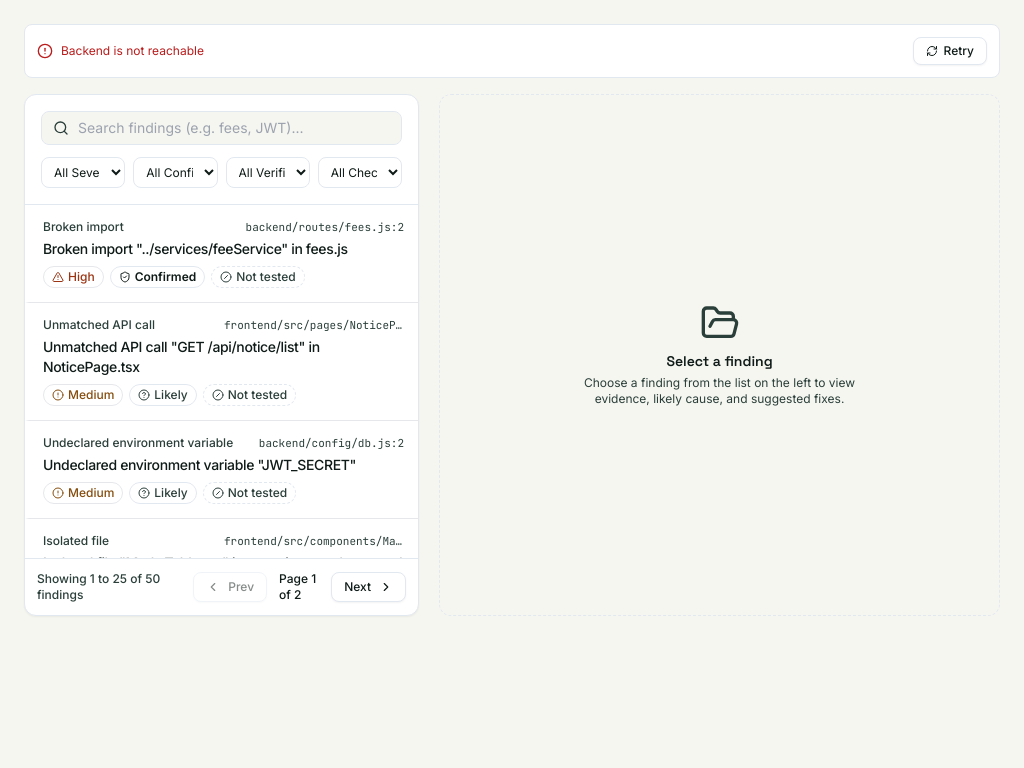
Scenario: Investigations Screen (Step 12a-1 Part 2) › T05: pagination text and next/previous page navigation
The width and height of the screenshot is (1024, 768).
expect the text with test id "pagination-info" reads "Showing 1 to 25 of 50 findings": met, box [37,571,160,602]
What coordinates should you click on to do the following:
click the button with aria-label "Next page"
I would click on:
 (369, 587)
Its box is [331,572,406,602].
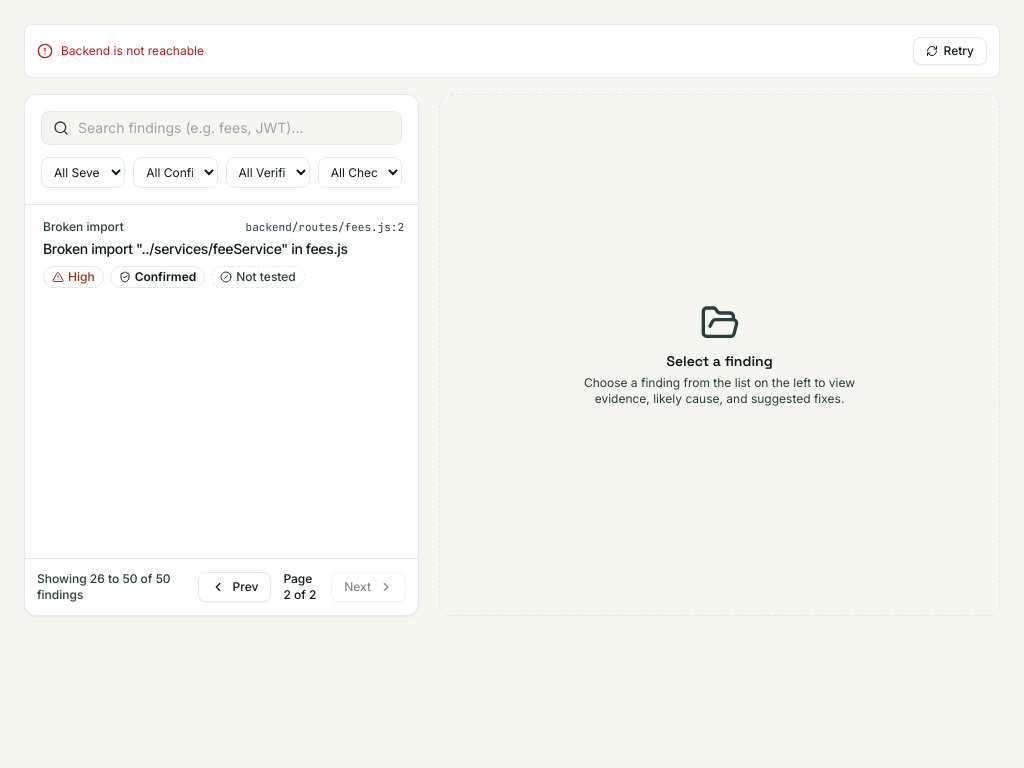
expect the text with test id "pagination-info" reads "Showing 26 to 50 of 50 findings": met, box [37,571,171,602]
